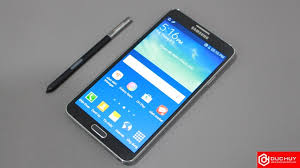samsung: (63, 7, 238, 168)
